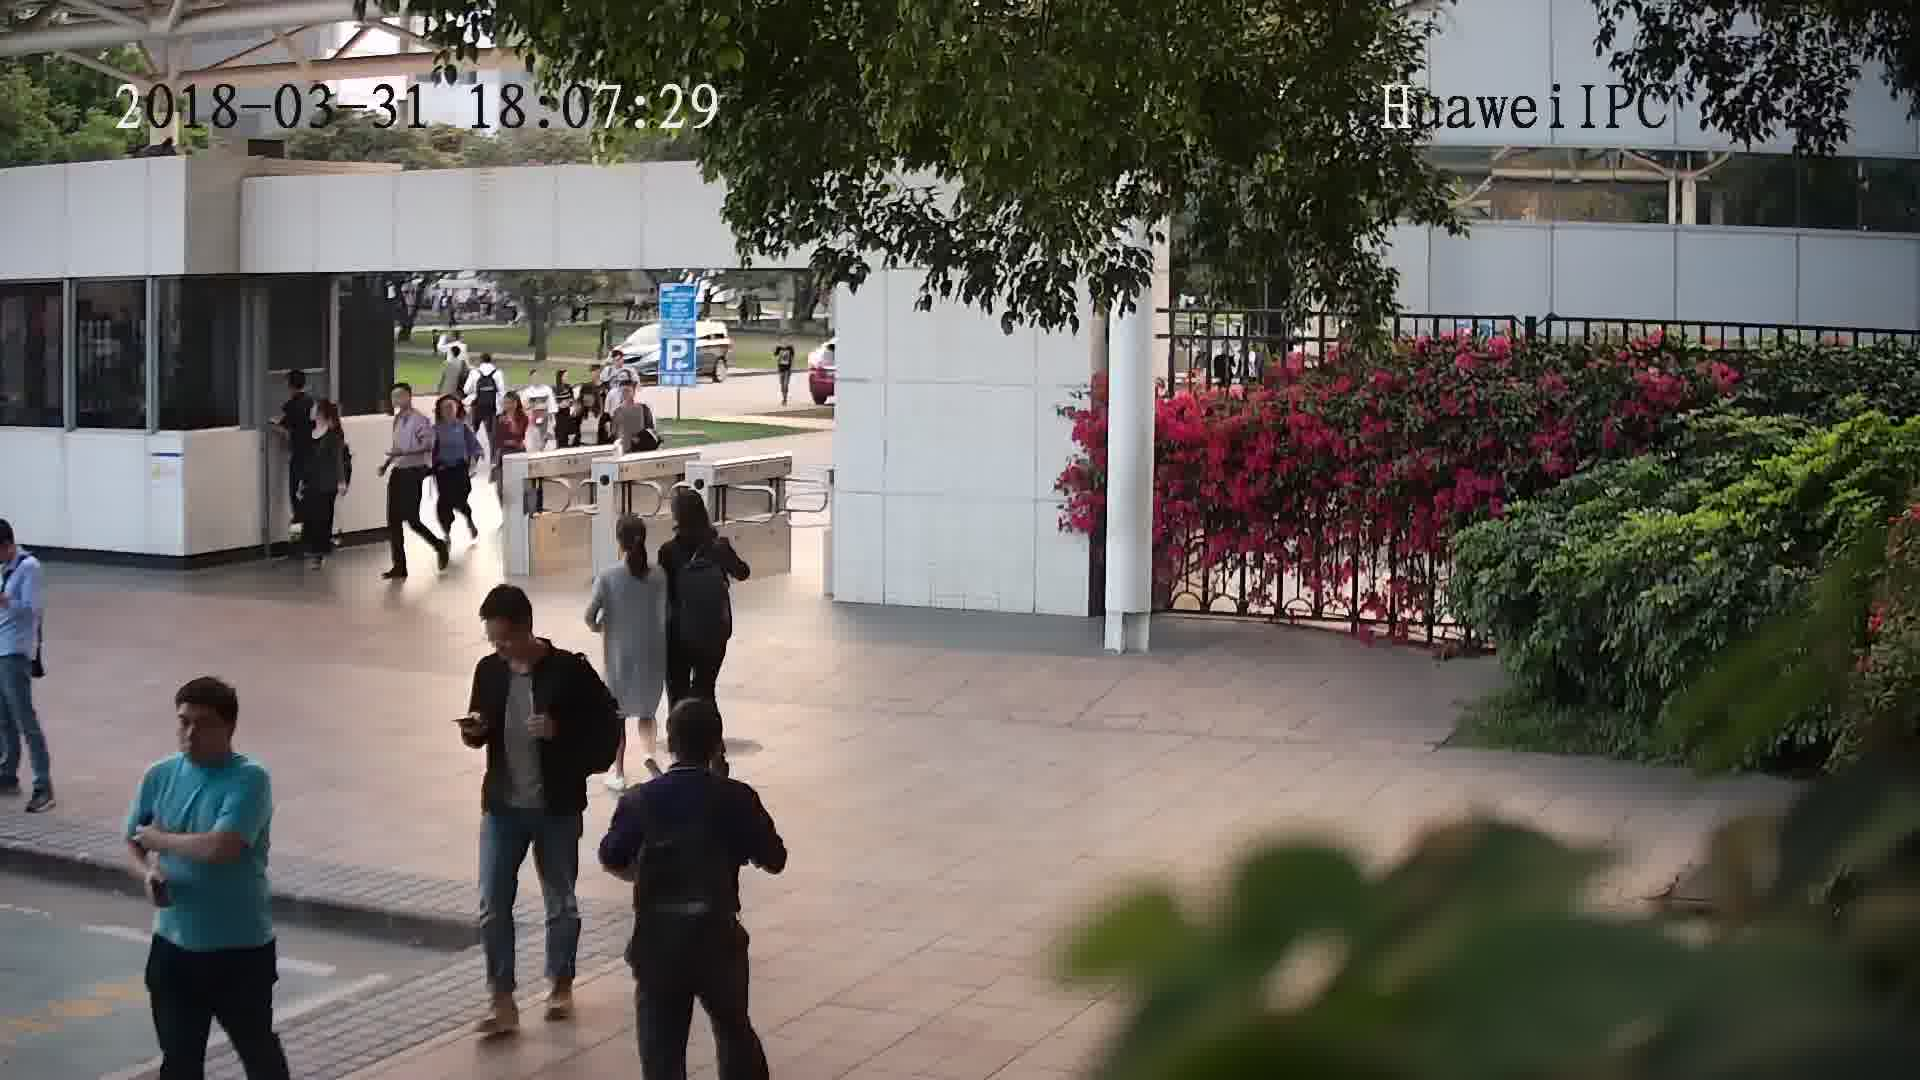face: (170, 702, 230, 762), (480, 610, 528, 658)
person: (619, 697, 755, 822), (139, 674, 270, 802), (470, 584, 594, 696), (659, 487, 734, 571), (596, 510, 665, 594), (1, 516, 48, 589), (296, 396, 346, 448), (385, 379, 430, 429), (277, 363, 317, 413), (427, 394, 469, 441), (614, 375, 654, 420), (492, 386, 532, 429), (578, 363, 611, 398), (439, 341, 474, 374), (470, 348, 503, 381), (549, 366, 580, 397)
